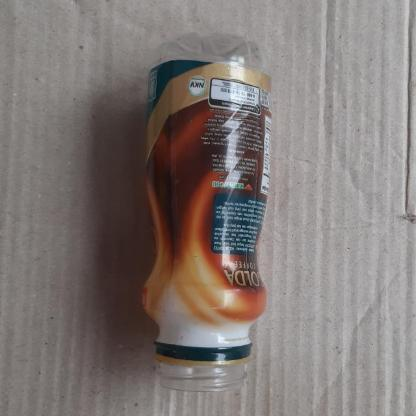Plastic Bottle: (140, 29, 274, 395)
